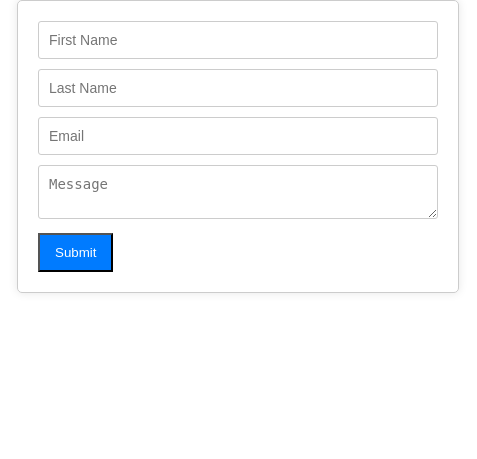
Scenario: message should be at least 10 characters long
Type "Short" into the text box with placeholder "Message" at (238, 192), box [38,165,438,219]
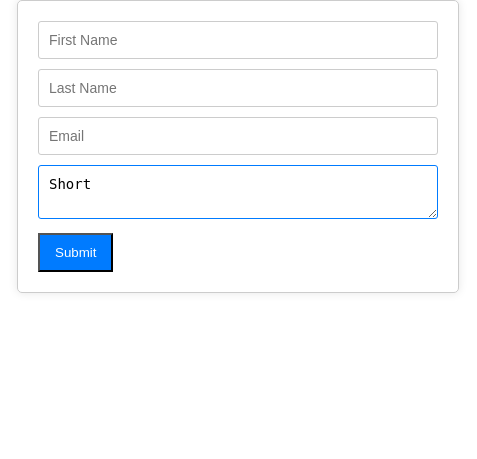
Click the button "Submit" at (76, 252), box [38,233,114,272]
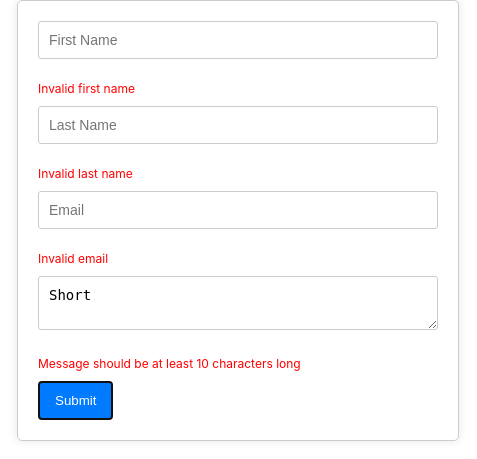
expect the text "Message should be at least 10 characters long" is shown: met, box [38,356,301,371]
